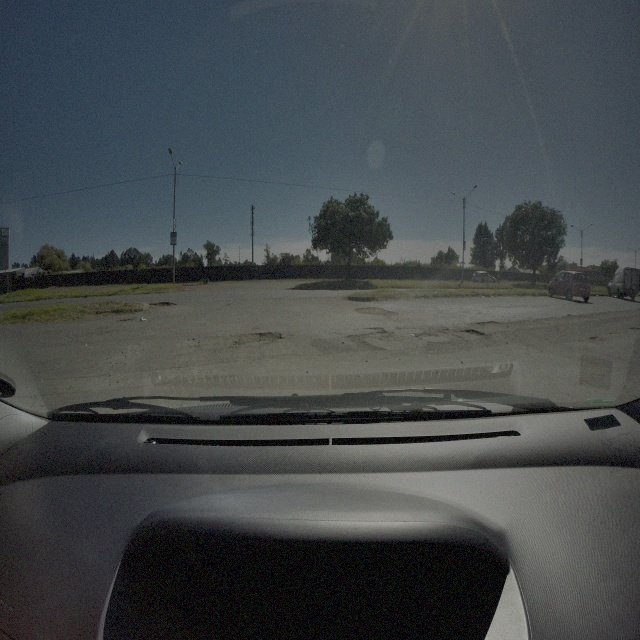pothole: (239, 327, 285, 346), (355, 304, 399, 320), (462, 326, 484, 337), (151, 299, 176, 308), (372, 324, 388, 338)
